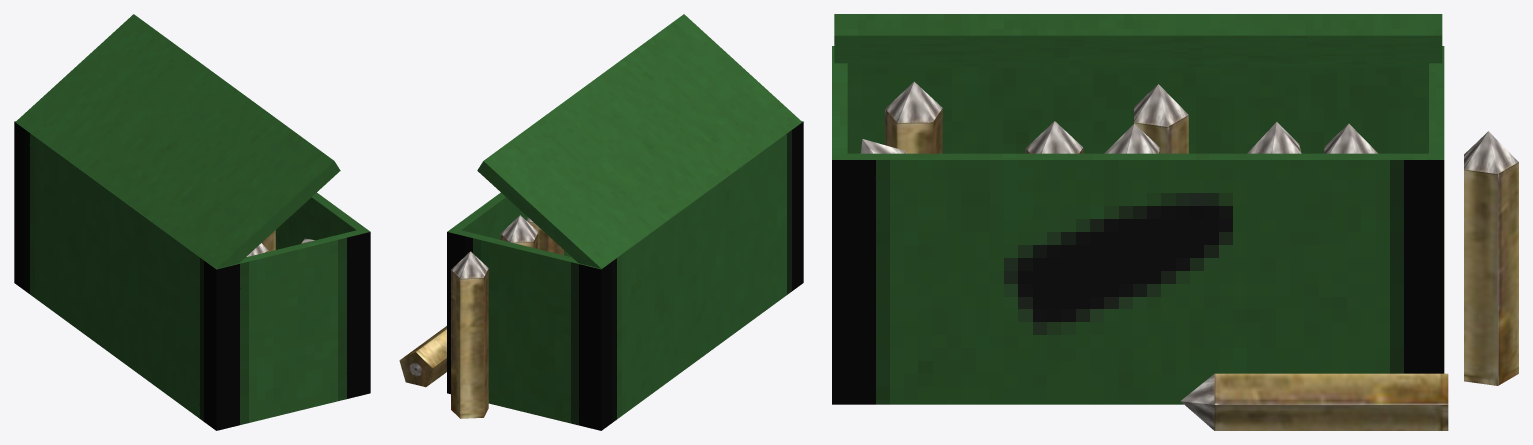
Rendered from ammo box.glb.
The picture shows the model from 3 angles, left to right: view 1: azimuth 30°, elevation 25°; view 2: azimuth 150°, elevation 25°; view 3: azimuth 270°, elevation 25°; orthographic projection. The views are drawn at different scales.
Parts seen in each view (by area): view 1: box; view 2: box, bullet.002, bullet.006, bullet, bullet.001; view 3: box, bullet.006, bullet.002, bullet.008, bullet.007, bullet.004, bullet.001, bullet.003, bullet.
Boxes of the visible parts, x1,y1,x2,y2 form: box: [14, 14, 370, 430]; box: [447, 14, 803, 430]; bullet.002: [451, 251, 488, 418]; bullet.006: [399, 326, 446, 387]; bullet: [500, 215, 538, 248]; bullet.001: [527, 217, 563, 255]; box: [832, 14, 1444, 404]; bullet.006: [1180, 373, 1448, 430]; bullet.002: [1464, 131, 1518, 385]; bullet.008: [885, 81, 942, 153]; bullet.007: [1134, 84, 1188, 153]; bullet.004: [1025, 121, 1083, 153]; bullet.001: [1247, 122, 1301, 153]; bullet.003: [1104, 123, 1159, 153]; bullet: [1324, 123, 1377, 153].
Size of the model in its own units: 0.4828 by 0.5529 by 0.9446.
2 materials, 2 textured.
